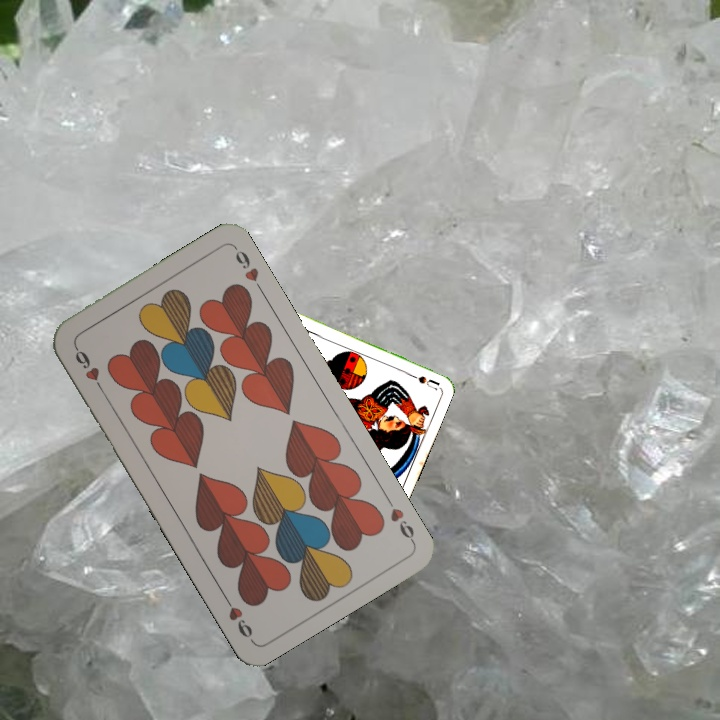H9: (69, 341, 106, 394), (381, 492, 417, 546)
SU: (401, 367, 440, 392)
